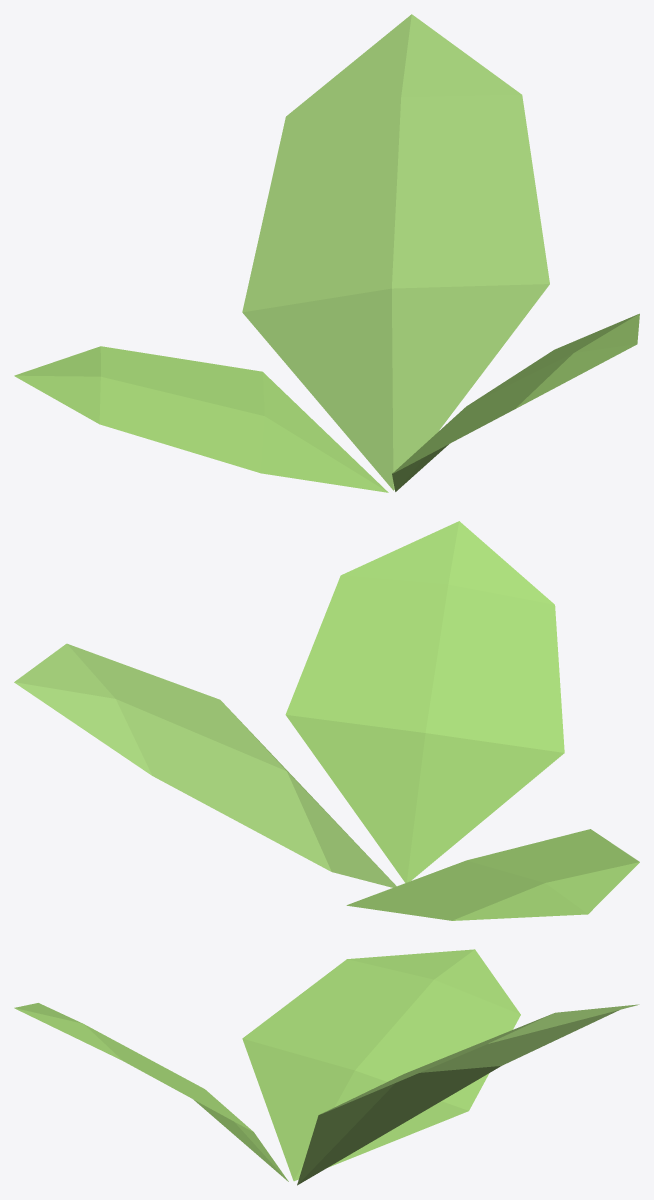
File: Plant_h_TwoS_03.fbx
The picture shows the model from 3 angles, top to bottom: view 1: azimuth 30°, elevation 25°; view 2: azimuth 150°, elevation 25°; view 3: azimuth 270°, elevation 25°; orthographic projection. The views are drawn at different scales.
Parts seen in each view (by area): view 1: Plant_h_TwoS_03; view 2: Plant_h_TwoS_03; view 3: Plant_h_TwoS_03.
Part boxes in pixels (x1=…): Plant_h_TwoS_03: x1=14, y1=14, x2=639, y2=492; Plant_h_TwoS_03: x1=14, y1=521, x2=639, y2=920; Plant_h_TwoS_03: x1=14, y1=949, x2=639, y2=1185.
Bounding box in the file's own units: 0.3551 × 0.1929 × 0.4006.
